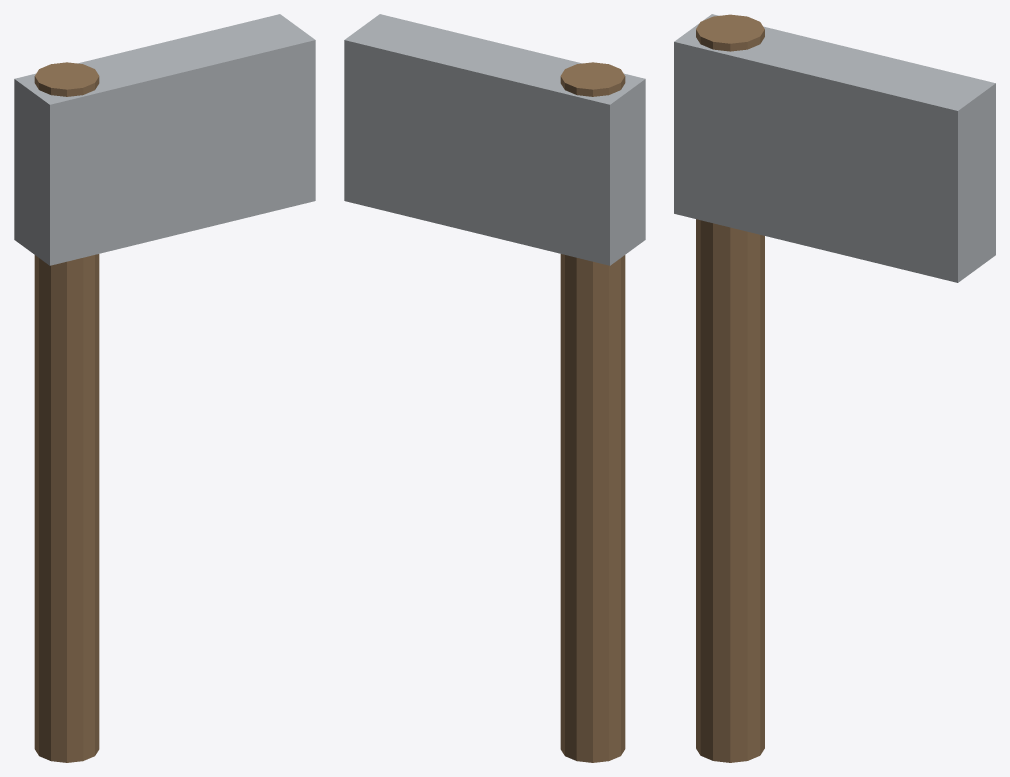
The model's file is iron_axe.glb.
3 views of the same model, side by side, from view 1: azimuth 30°, elevation 25°; view 2: azimuth 150°, elevation 25°; view 3: azimuth 330°, elevation 25° (orthographic). The views are drawn at different scales.
Parts seen in each view (by area): view 1: axe_0_1, axe_0_0; view 2: axe_0_1, axe_0_0; view 3: axe_0_1, axe_0_0.
Part boxes in pixels (<box>): axe_0_1: <box>14,14,315,265</box>; axe_0_0: <box>34,62,99,762</box>; axe_0_1: <box>344,14,645,265</box>; axe_0_0: <box>560,62,625,762</box>; axe_0_1: <box>674,14,995,282</box>; axe_0_0: <box>696,14,764,762</box>.
Size of the model in its own units: 0.95 by 2.3 by 0.22.
